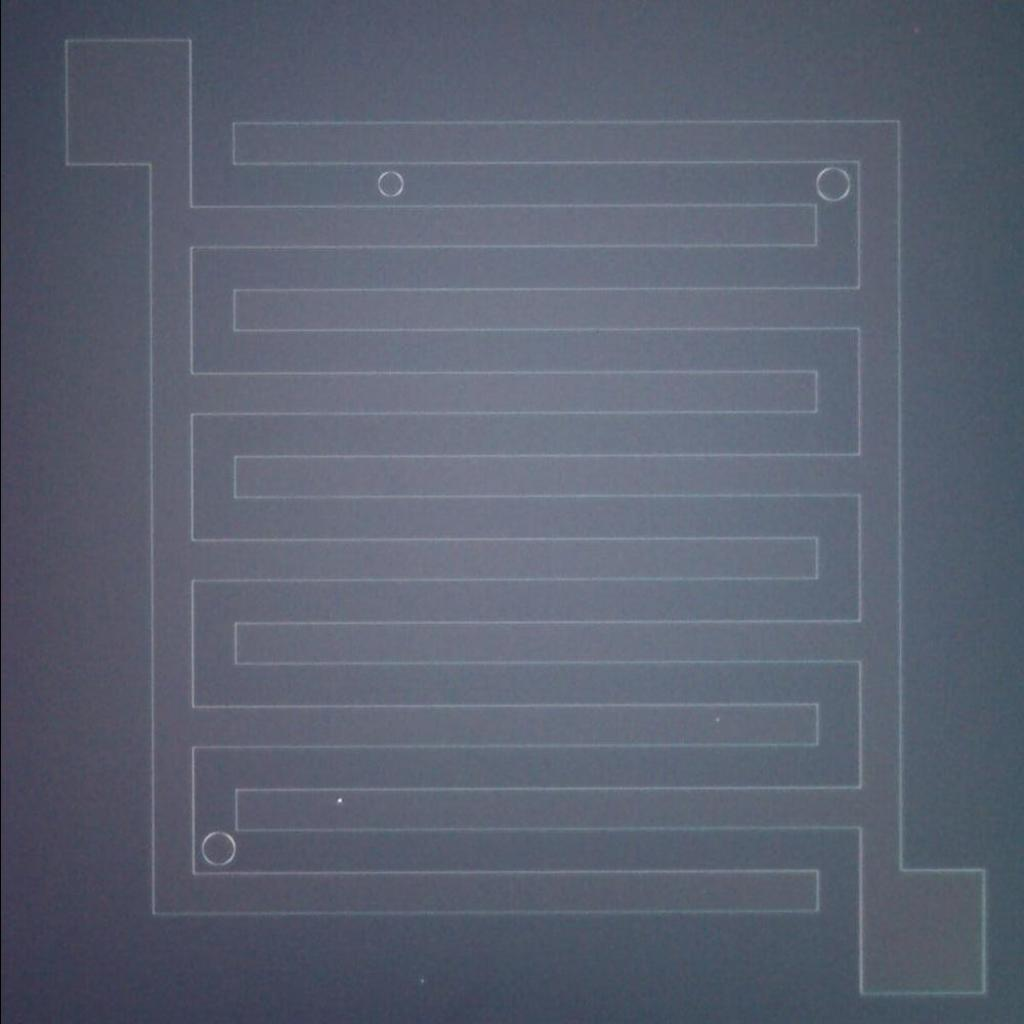circle: (193, 830, 237, 874), (811, 165, 855, 207), (374, 167, 404, 200)
dot: (326, 791, 354, 815)
